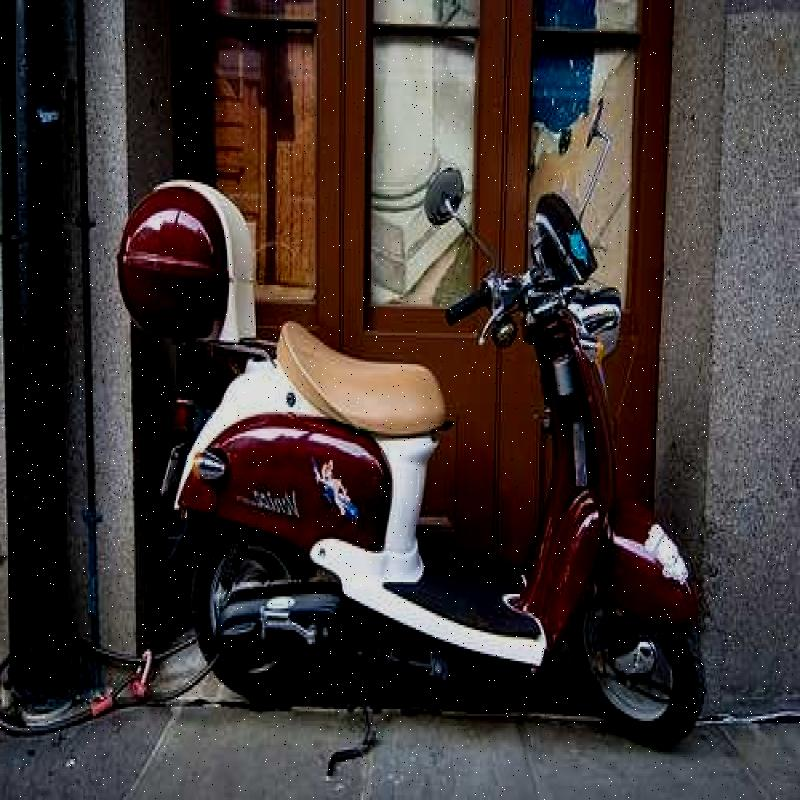bike: (149, 186, 706, 705)
